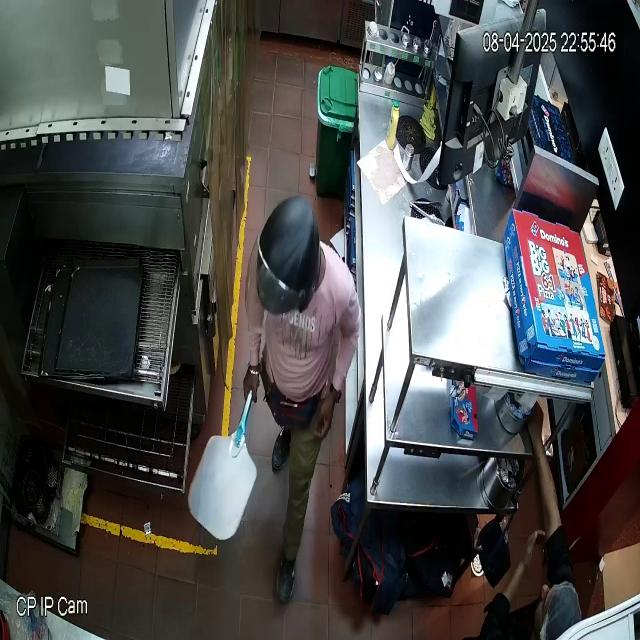helmet: (255, 194, 320, 316)
